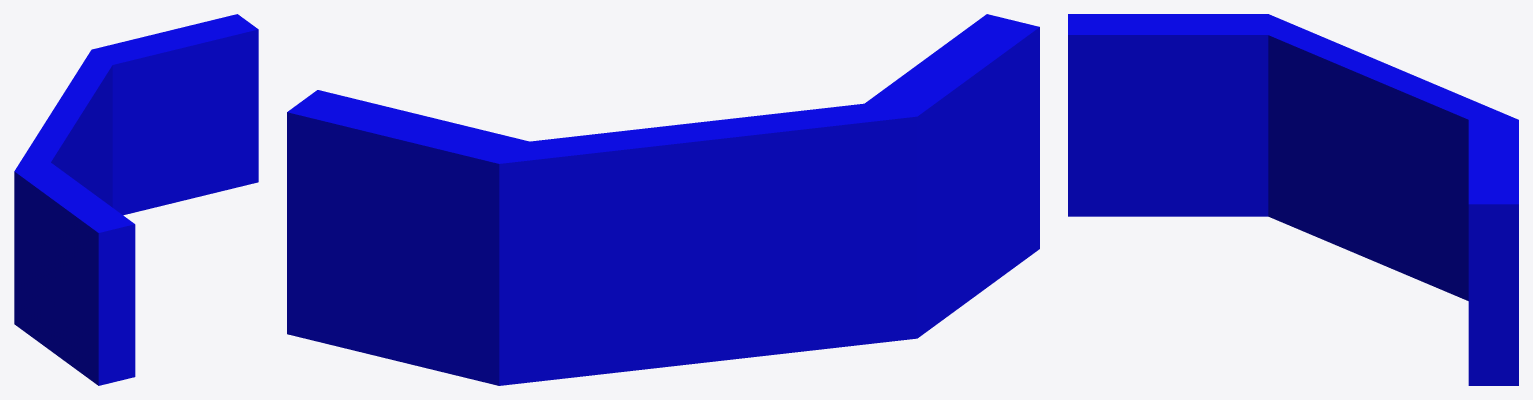
Rendered from WALL_CORNER_8x8.fbx.
3 views of the same model, side by side, from view 1: azimuth 30°, elevation 25°; view 2: azimuth 150°, elevation 25°; view 3: azimuth 270°, elevation 25° (orthographic). The views are drawn at different scales.
Visible parts, largest first — view 1: WALL_CORNER8x8; view 2: WALL_CORNER8x8; view 3: WALL_CORNER8x8.
Boxes of the visible parts, x1,y1,x2,y2 form: WALL_CORNER8x8: [14, 14, 258, 385]; WALL_CORNER8x8: [287, 14, 1039, 385]; WALL_CORNER8x8: [1068, 14, 1518, 385].
Bounding box in the file's own units: 900 × 400 × 900.
